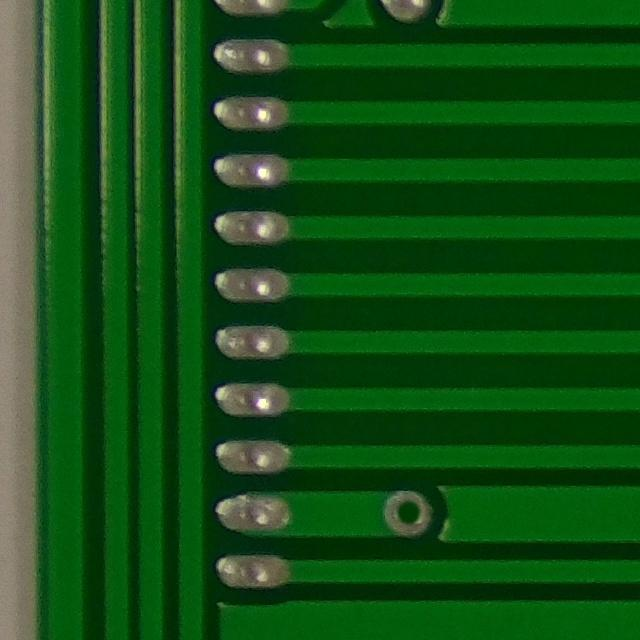missing_hole: (375, 478, 445, 548)
